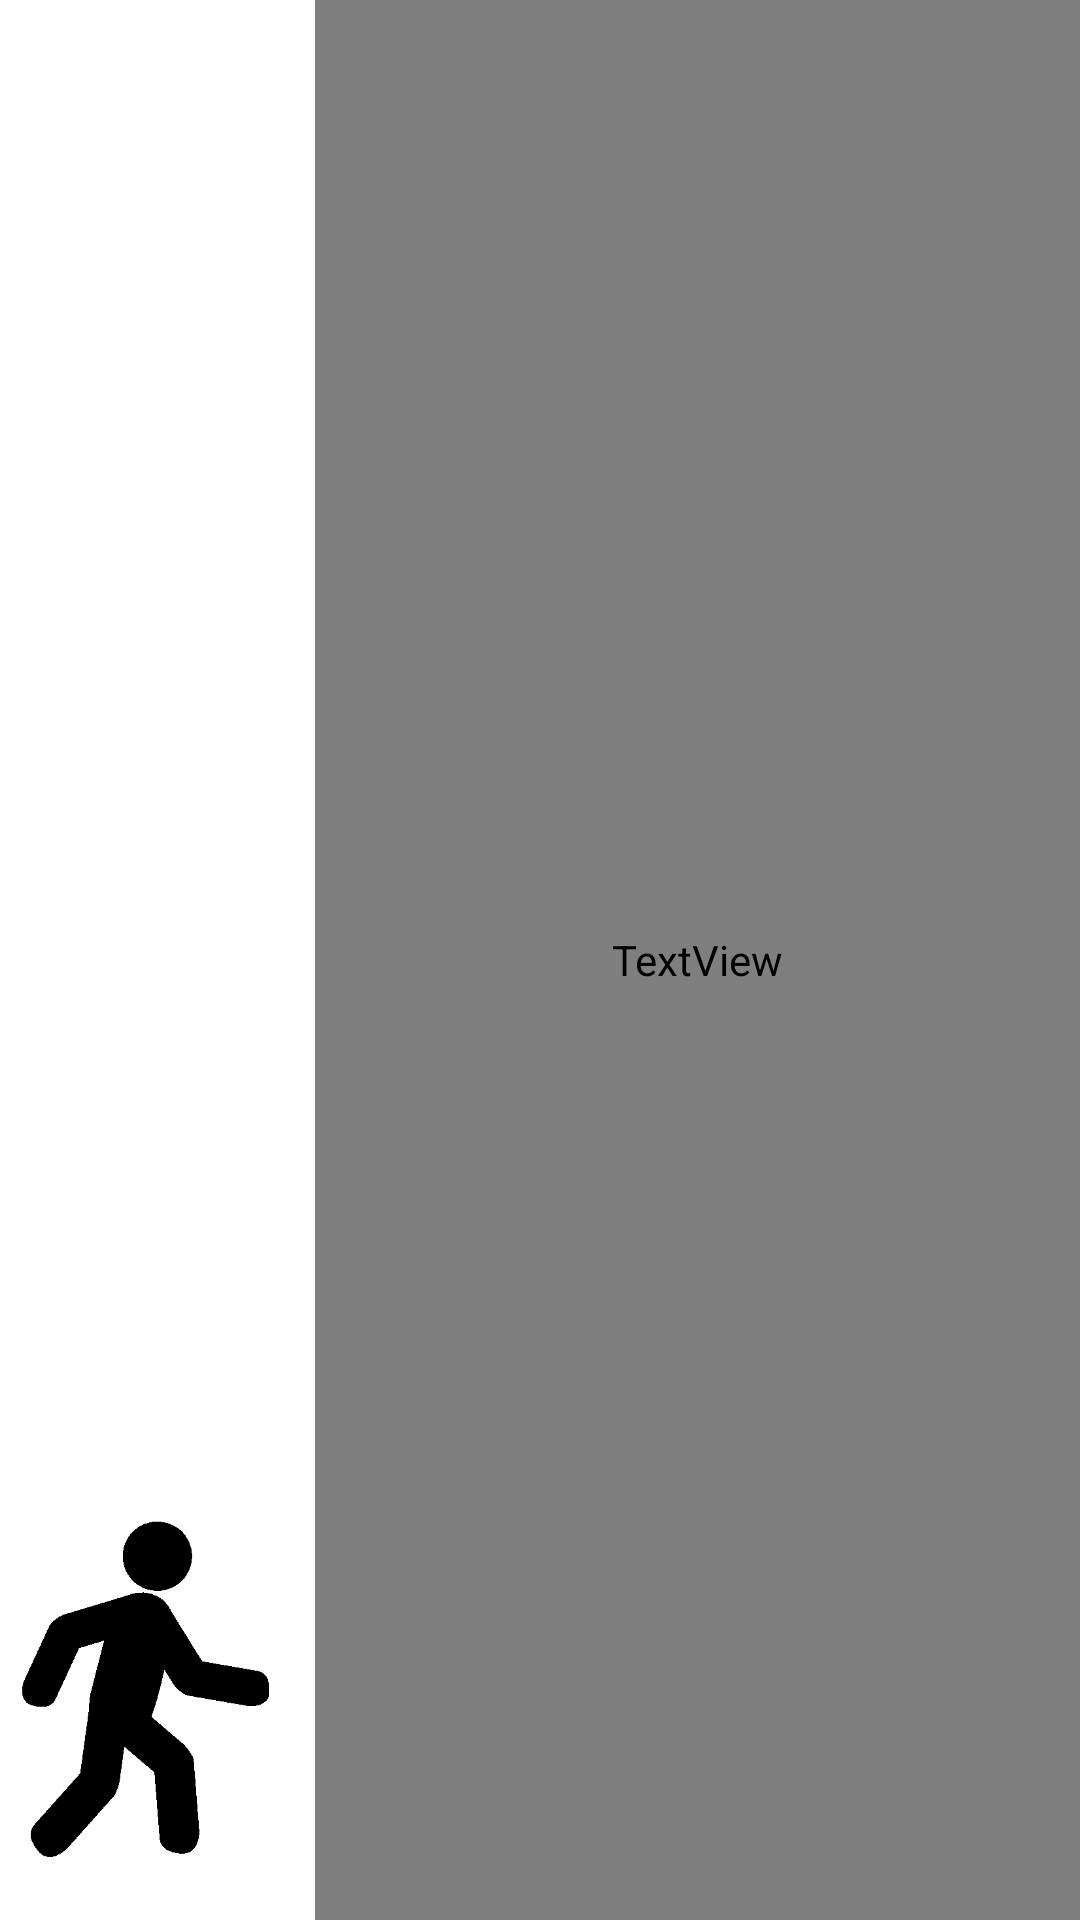

Icons on this 1080w x 1920h Android screen, each with the point to tap as [x,y]:
dude walking: [145,1689]
